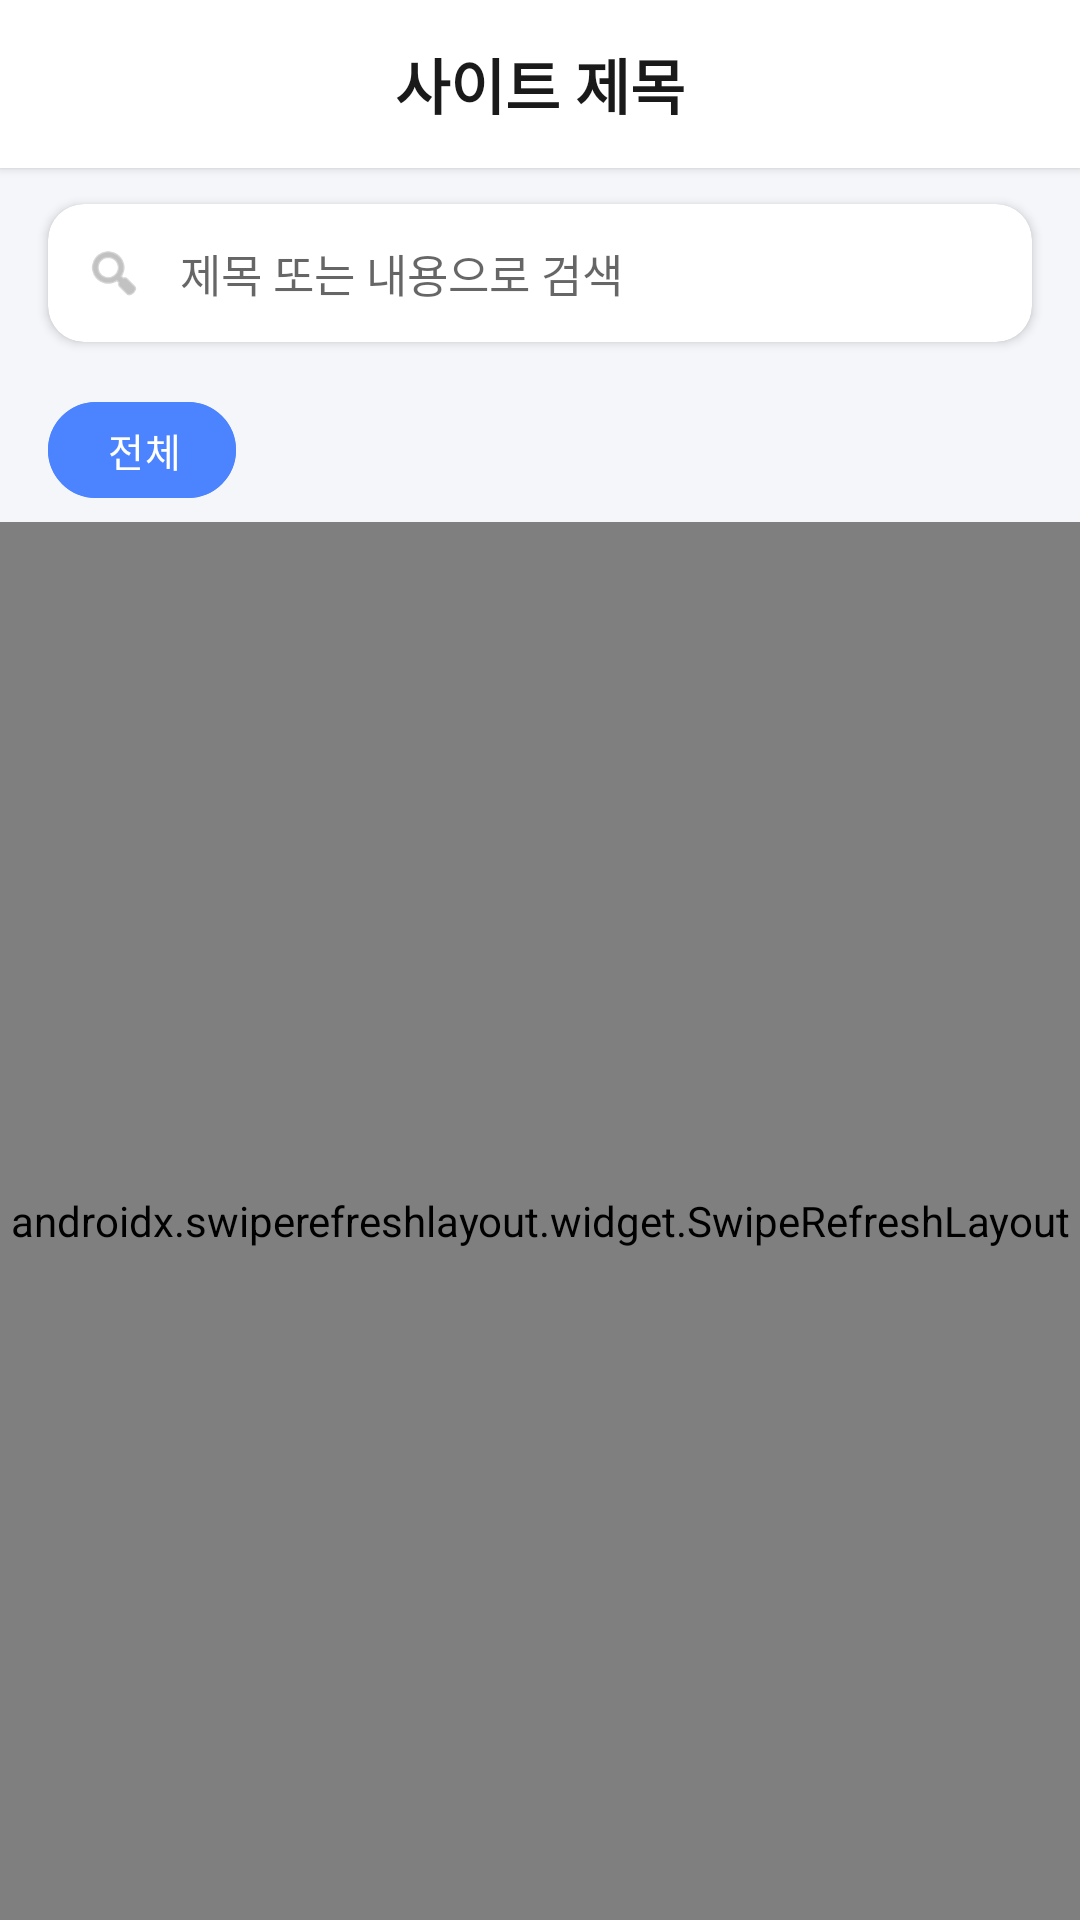

Where icons sit on this 1080w x 1920h app screen, as (x1, y1, x2, y2):
search: (92, 251, 136, 295)
